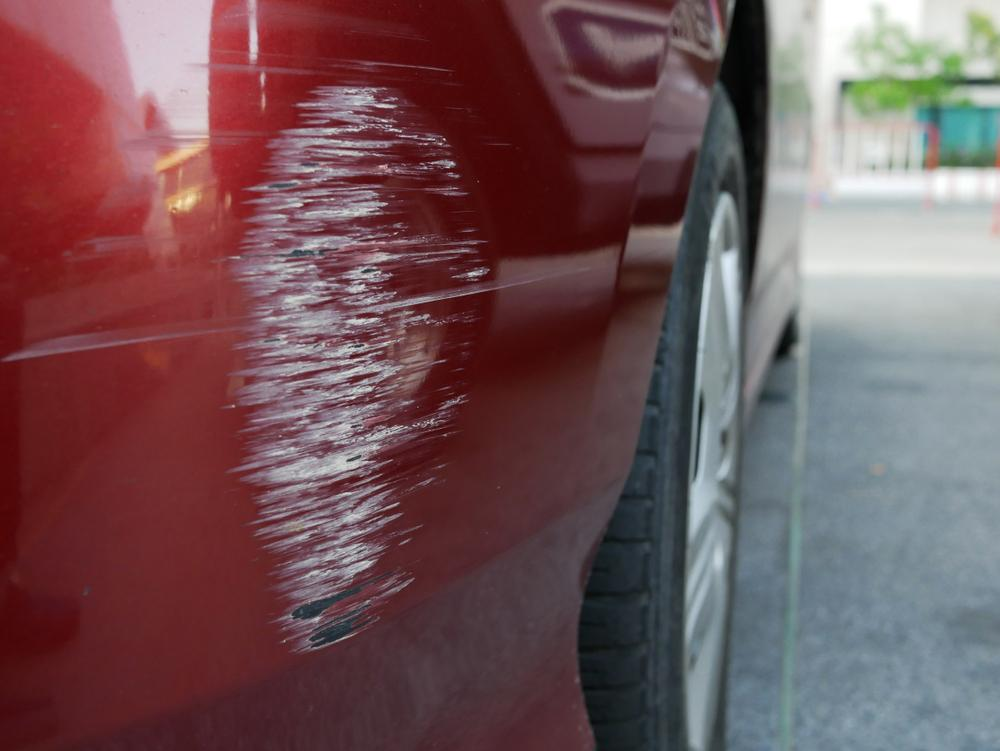scratch: (0, 0, 498, 667)
